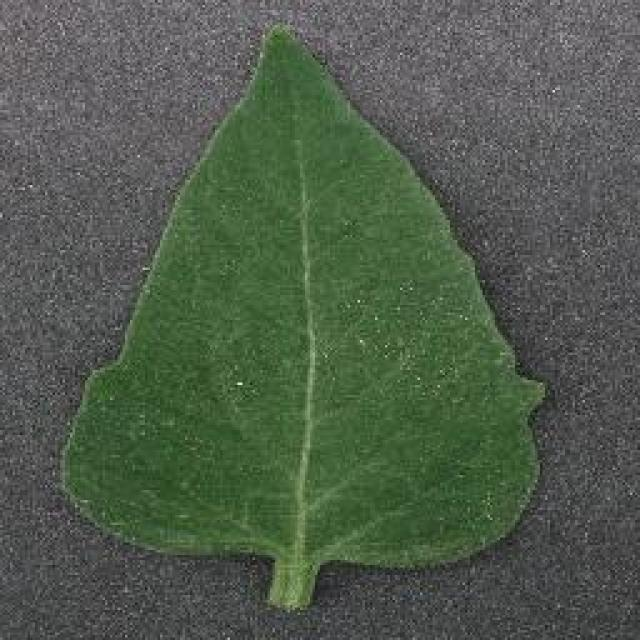Healthy: (50, 18, 558, 630)
